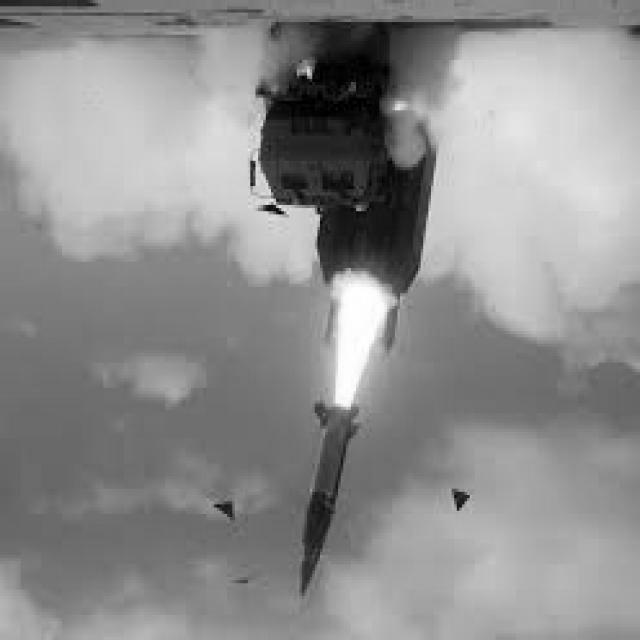missile: (286, 397, 366, 619)
